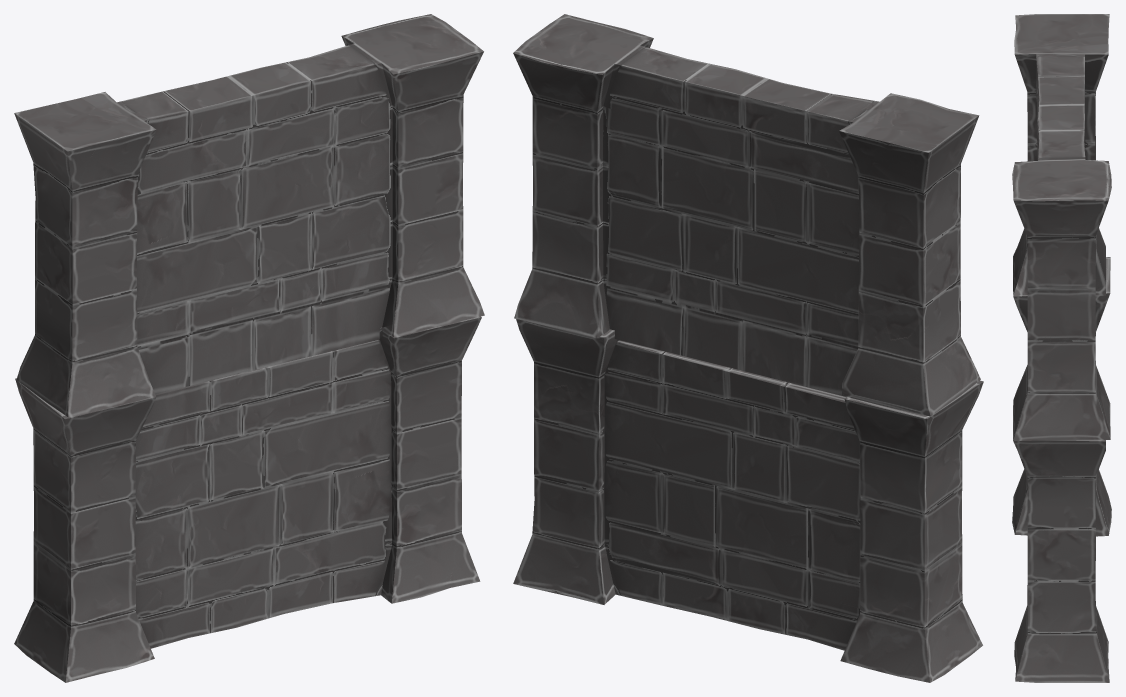
File: slave_king_wall_1.fbx
The picture shows the model from 3 angles, left to right: view 1: azimuth 30°, elevation 25°; view 2: azimuth 150°, elevation 25°; view 3: azimuth 270°, elevation 25°; orthographic projection. The views are drawn at different scales.
Visible parts, largest first — view 1: wall_1_retopo.001; view 2: wall_1_retopo.001; view 3: wall_1_retopo.001.
Boxes of the visible parts, x1=… form: wall_1_retopo.001: x1=14, y1=14, x2=484, y2=682; wall_1_retopo.001: x1=513, y1=14, x2=983, y2=682; wall_1_retopo.001: x1=1012, y1=14, x2=1111, y2=682.
Size of the model in its own units: 1306 by 1582 by 295.
